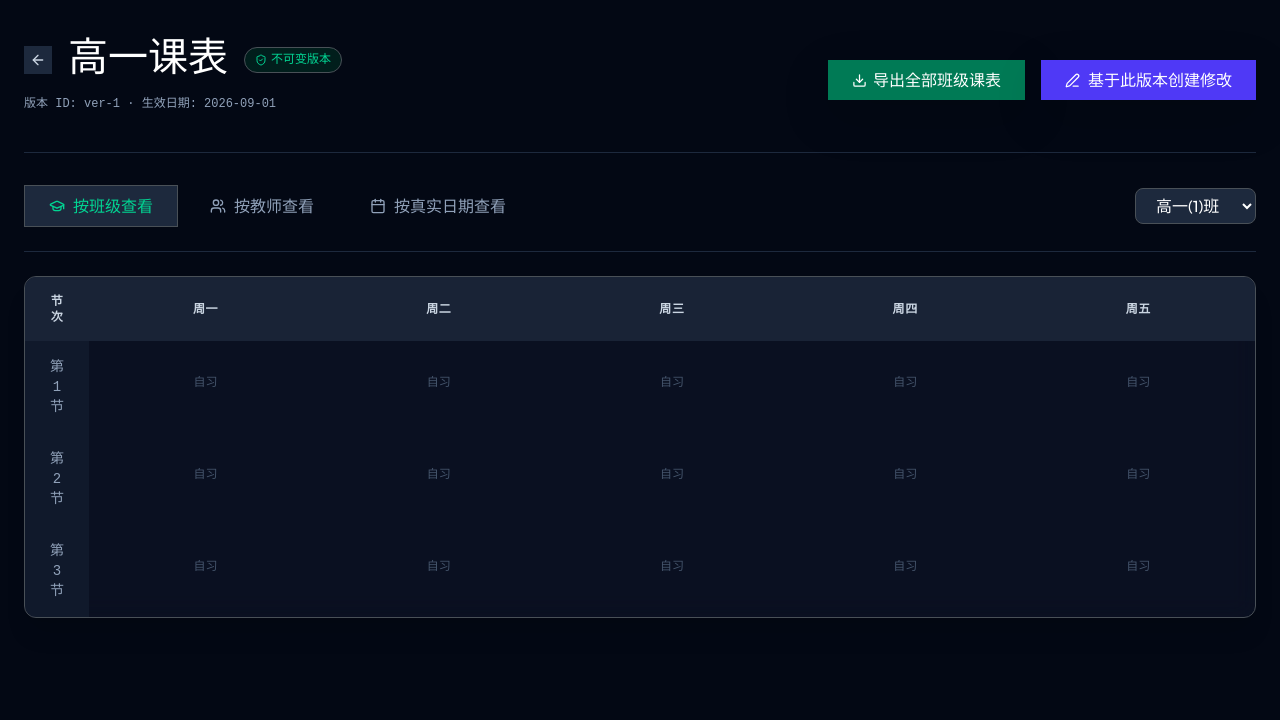
TimetablePage › renders teacher weekly timetable with normal and split lessons
Click the button "按教师查看".
click(262, 206)  # box x1=186 y1=185 x2=338 y2=227
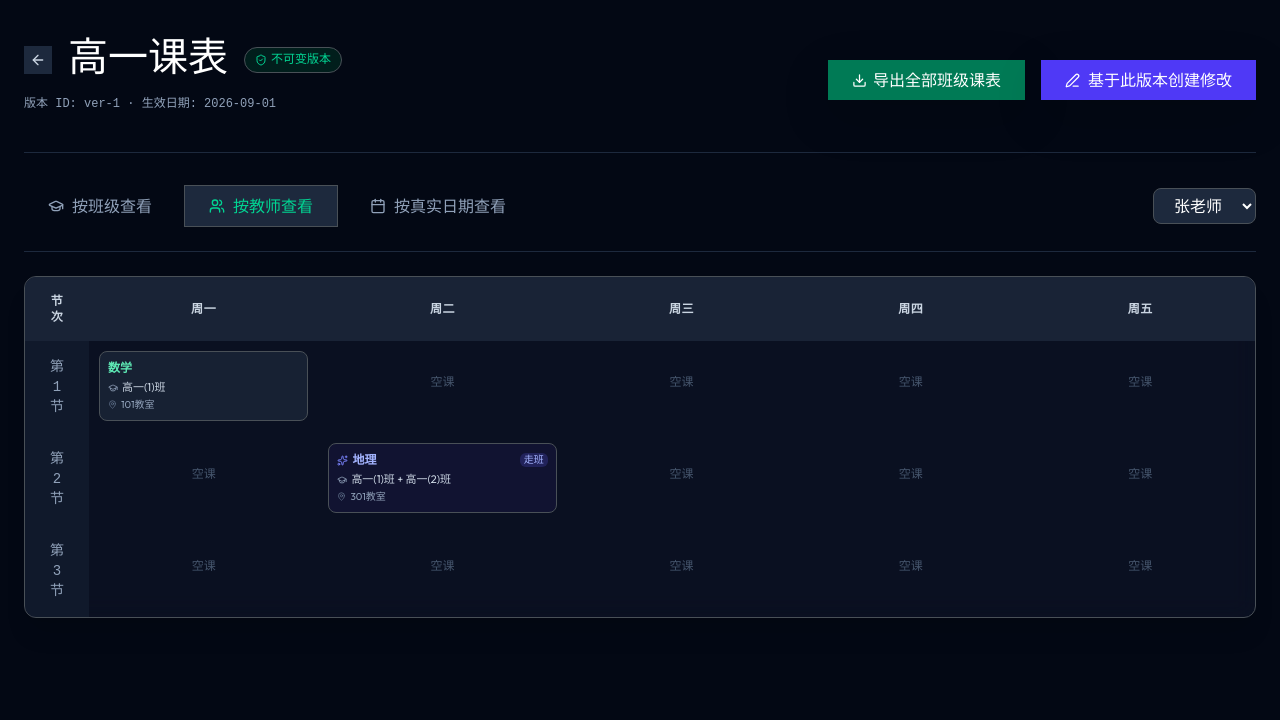
Check: the dropdown shows "张老师", box x1=1153 y1=188 x2=1256 y2=224
Check: the text "数学" is shown, box x1=108 y1=360 x2=132 y2=376
Check: the text "高一(1)班" is shown, box x1=122 y1=380 x2=166 y2=396
